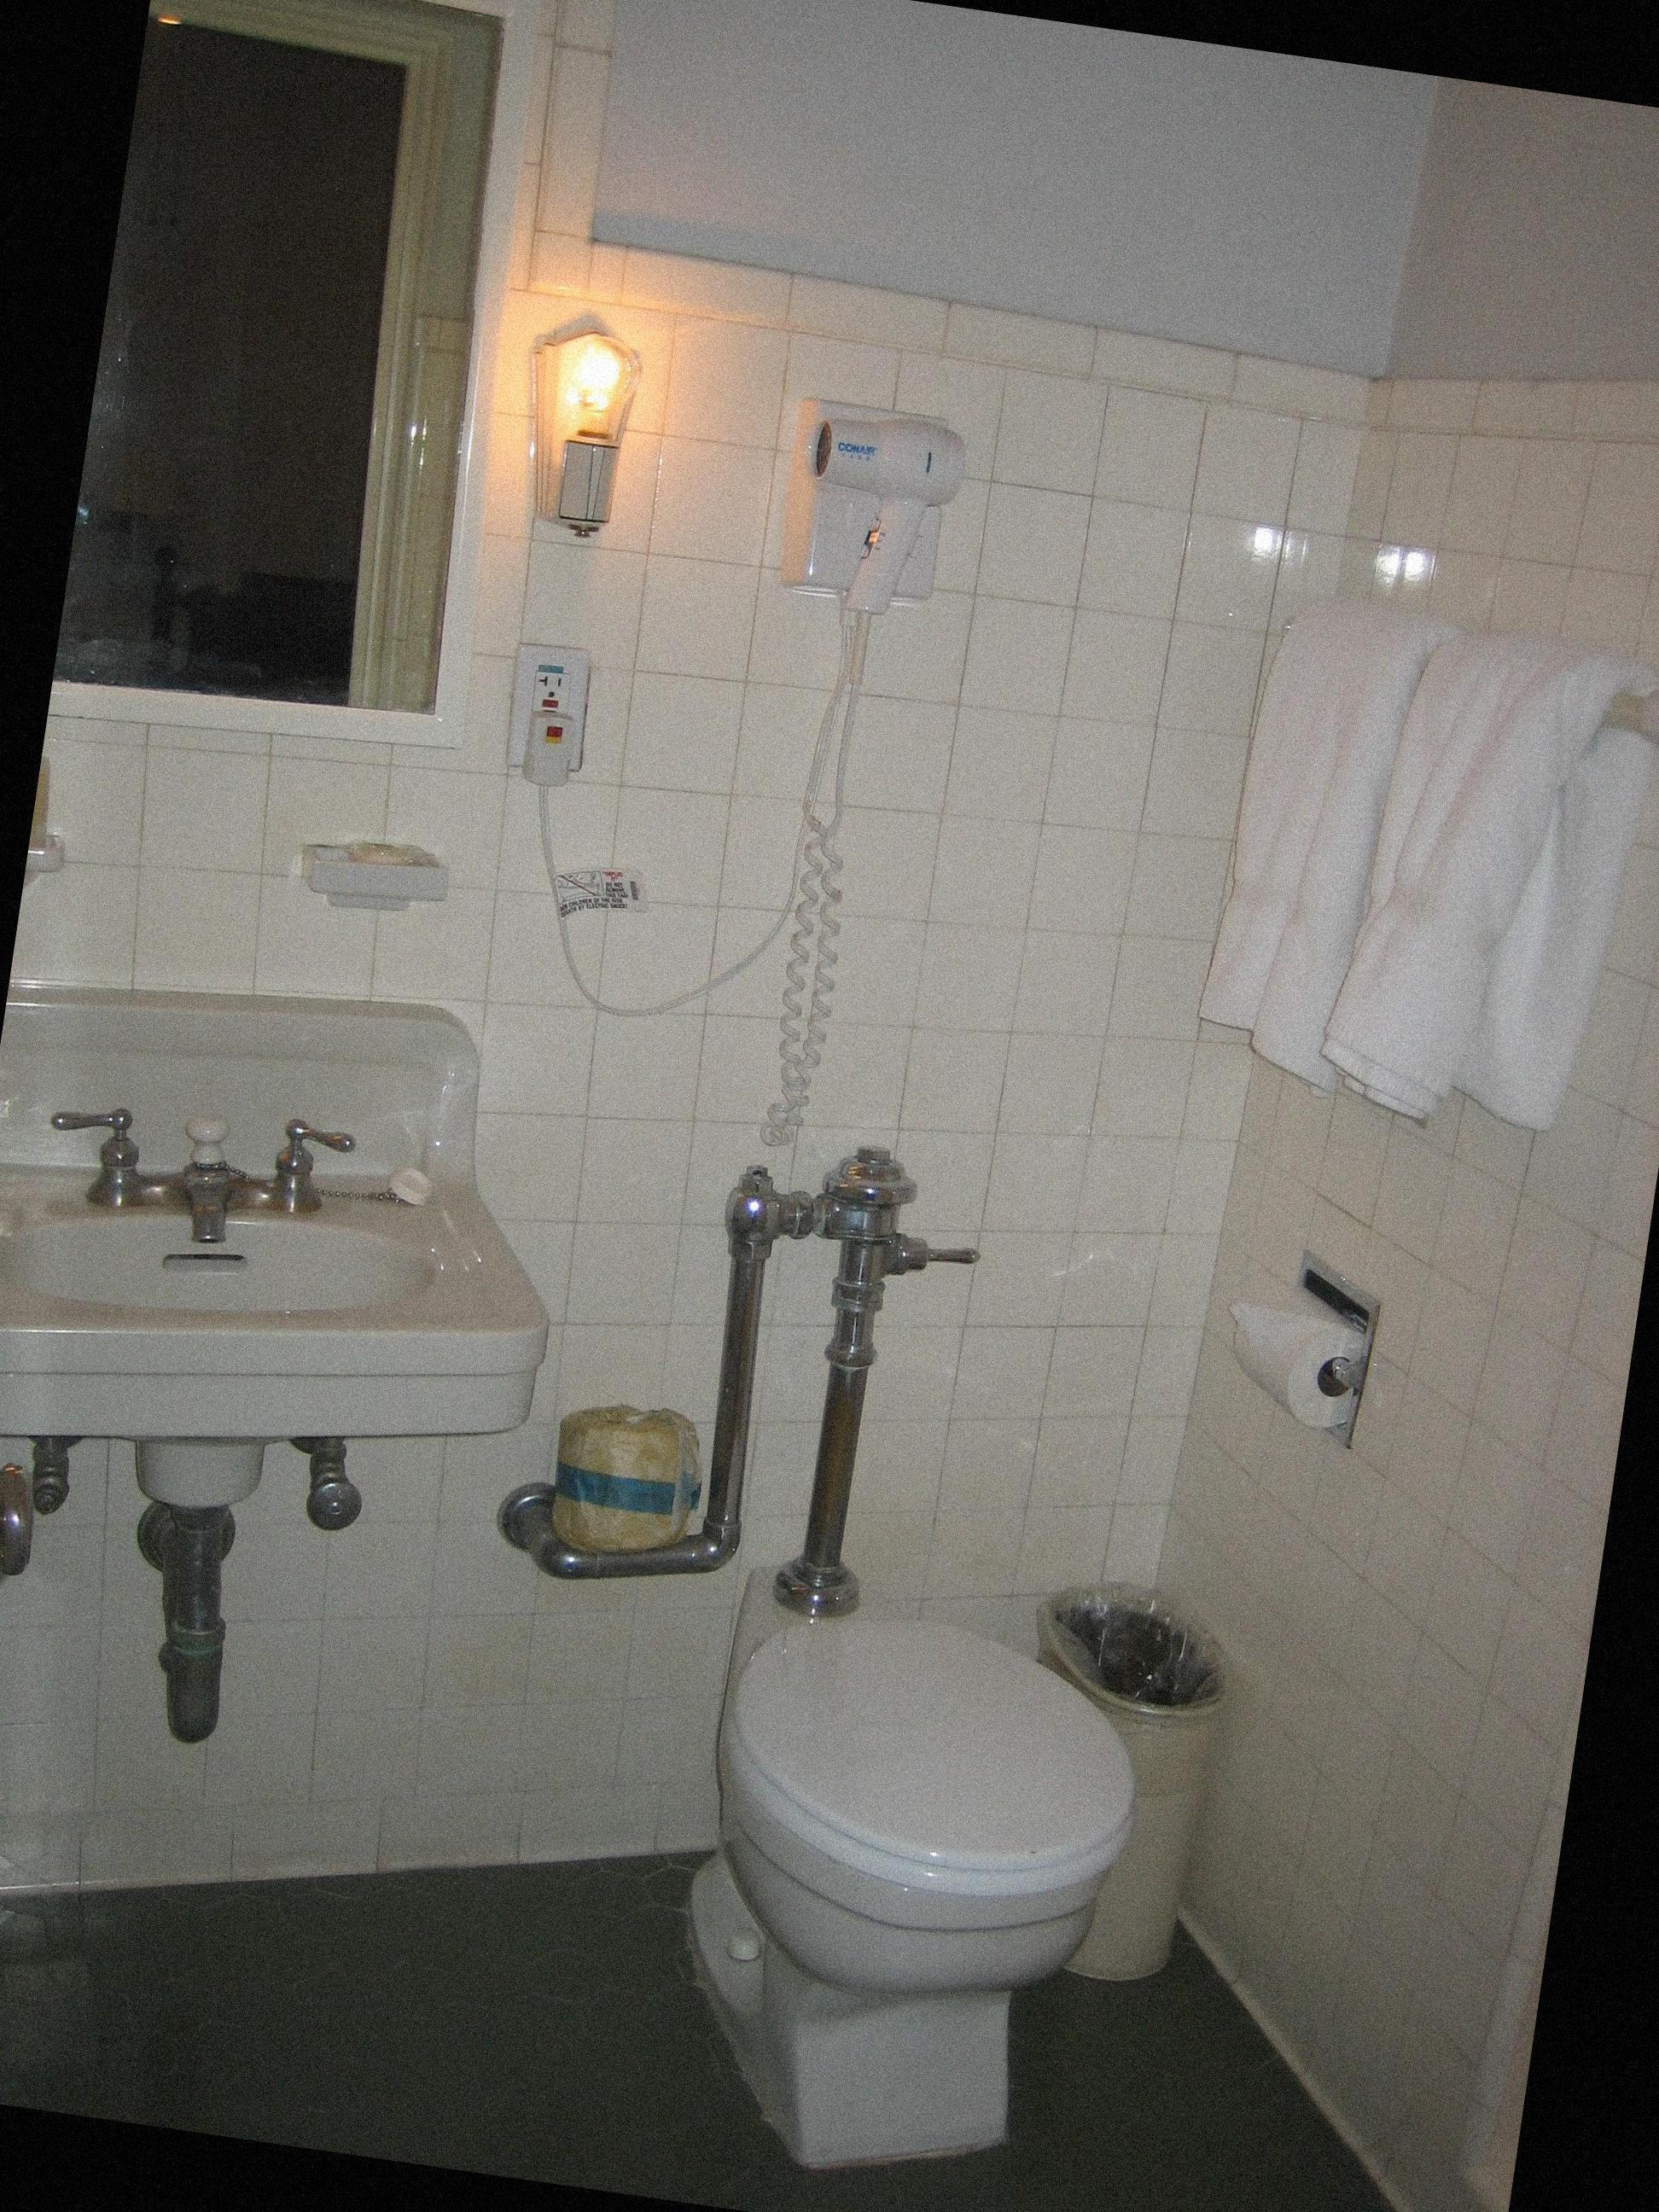Bote de Basura: (962, 1526, 1284, 2038)
Lavamanos: (0, 975, 587, 1804)
Sanitario: (486, 1169, 1202, 2200)
